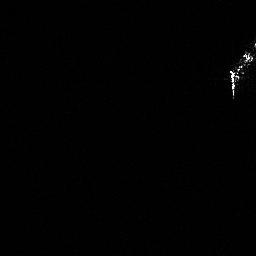ship: (225, 38, 256, 102)
